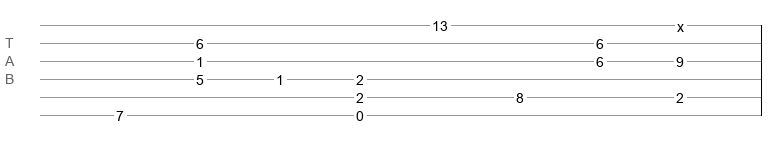0: (356, 108, 364, 118)
1: (196, 54, 204, 64), (276, 72, 284, 82)
13: (432, 18, 448, 28)
2: (356, 90, 364, 100), (356, 72, 364, 82), (676, 90, 684, 100)
5: (196, 72, 204, 82)
6: (196, 36, 204, 46), (596, 36, 604, 46), (596, 54, 604, 64)
7: (116, 108, 124, 118)
8: (516, 90, 524, 100)
9: (676, 54, 684, 64)
x: (677, 19, 684, 27)
